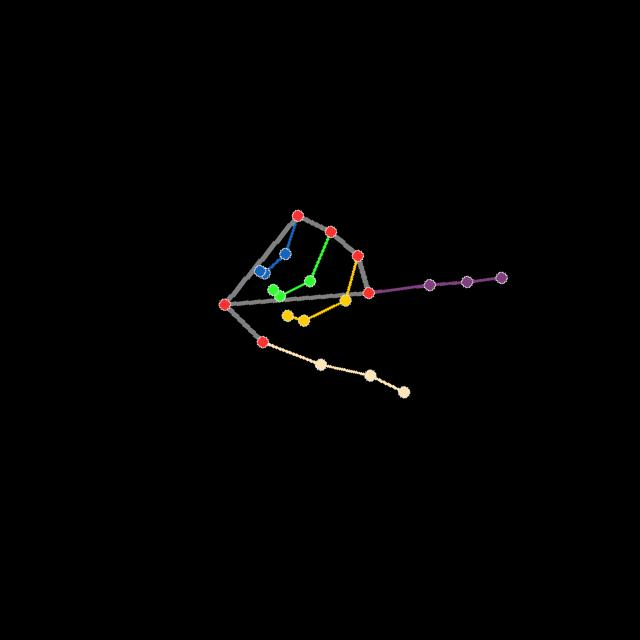gun: (217, 206, 516, 402)
